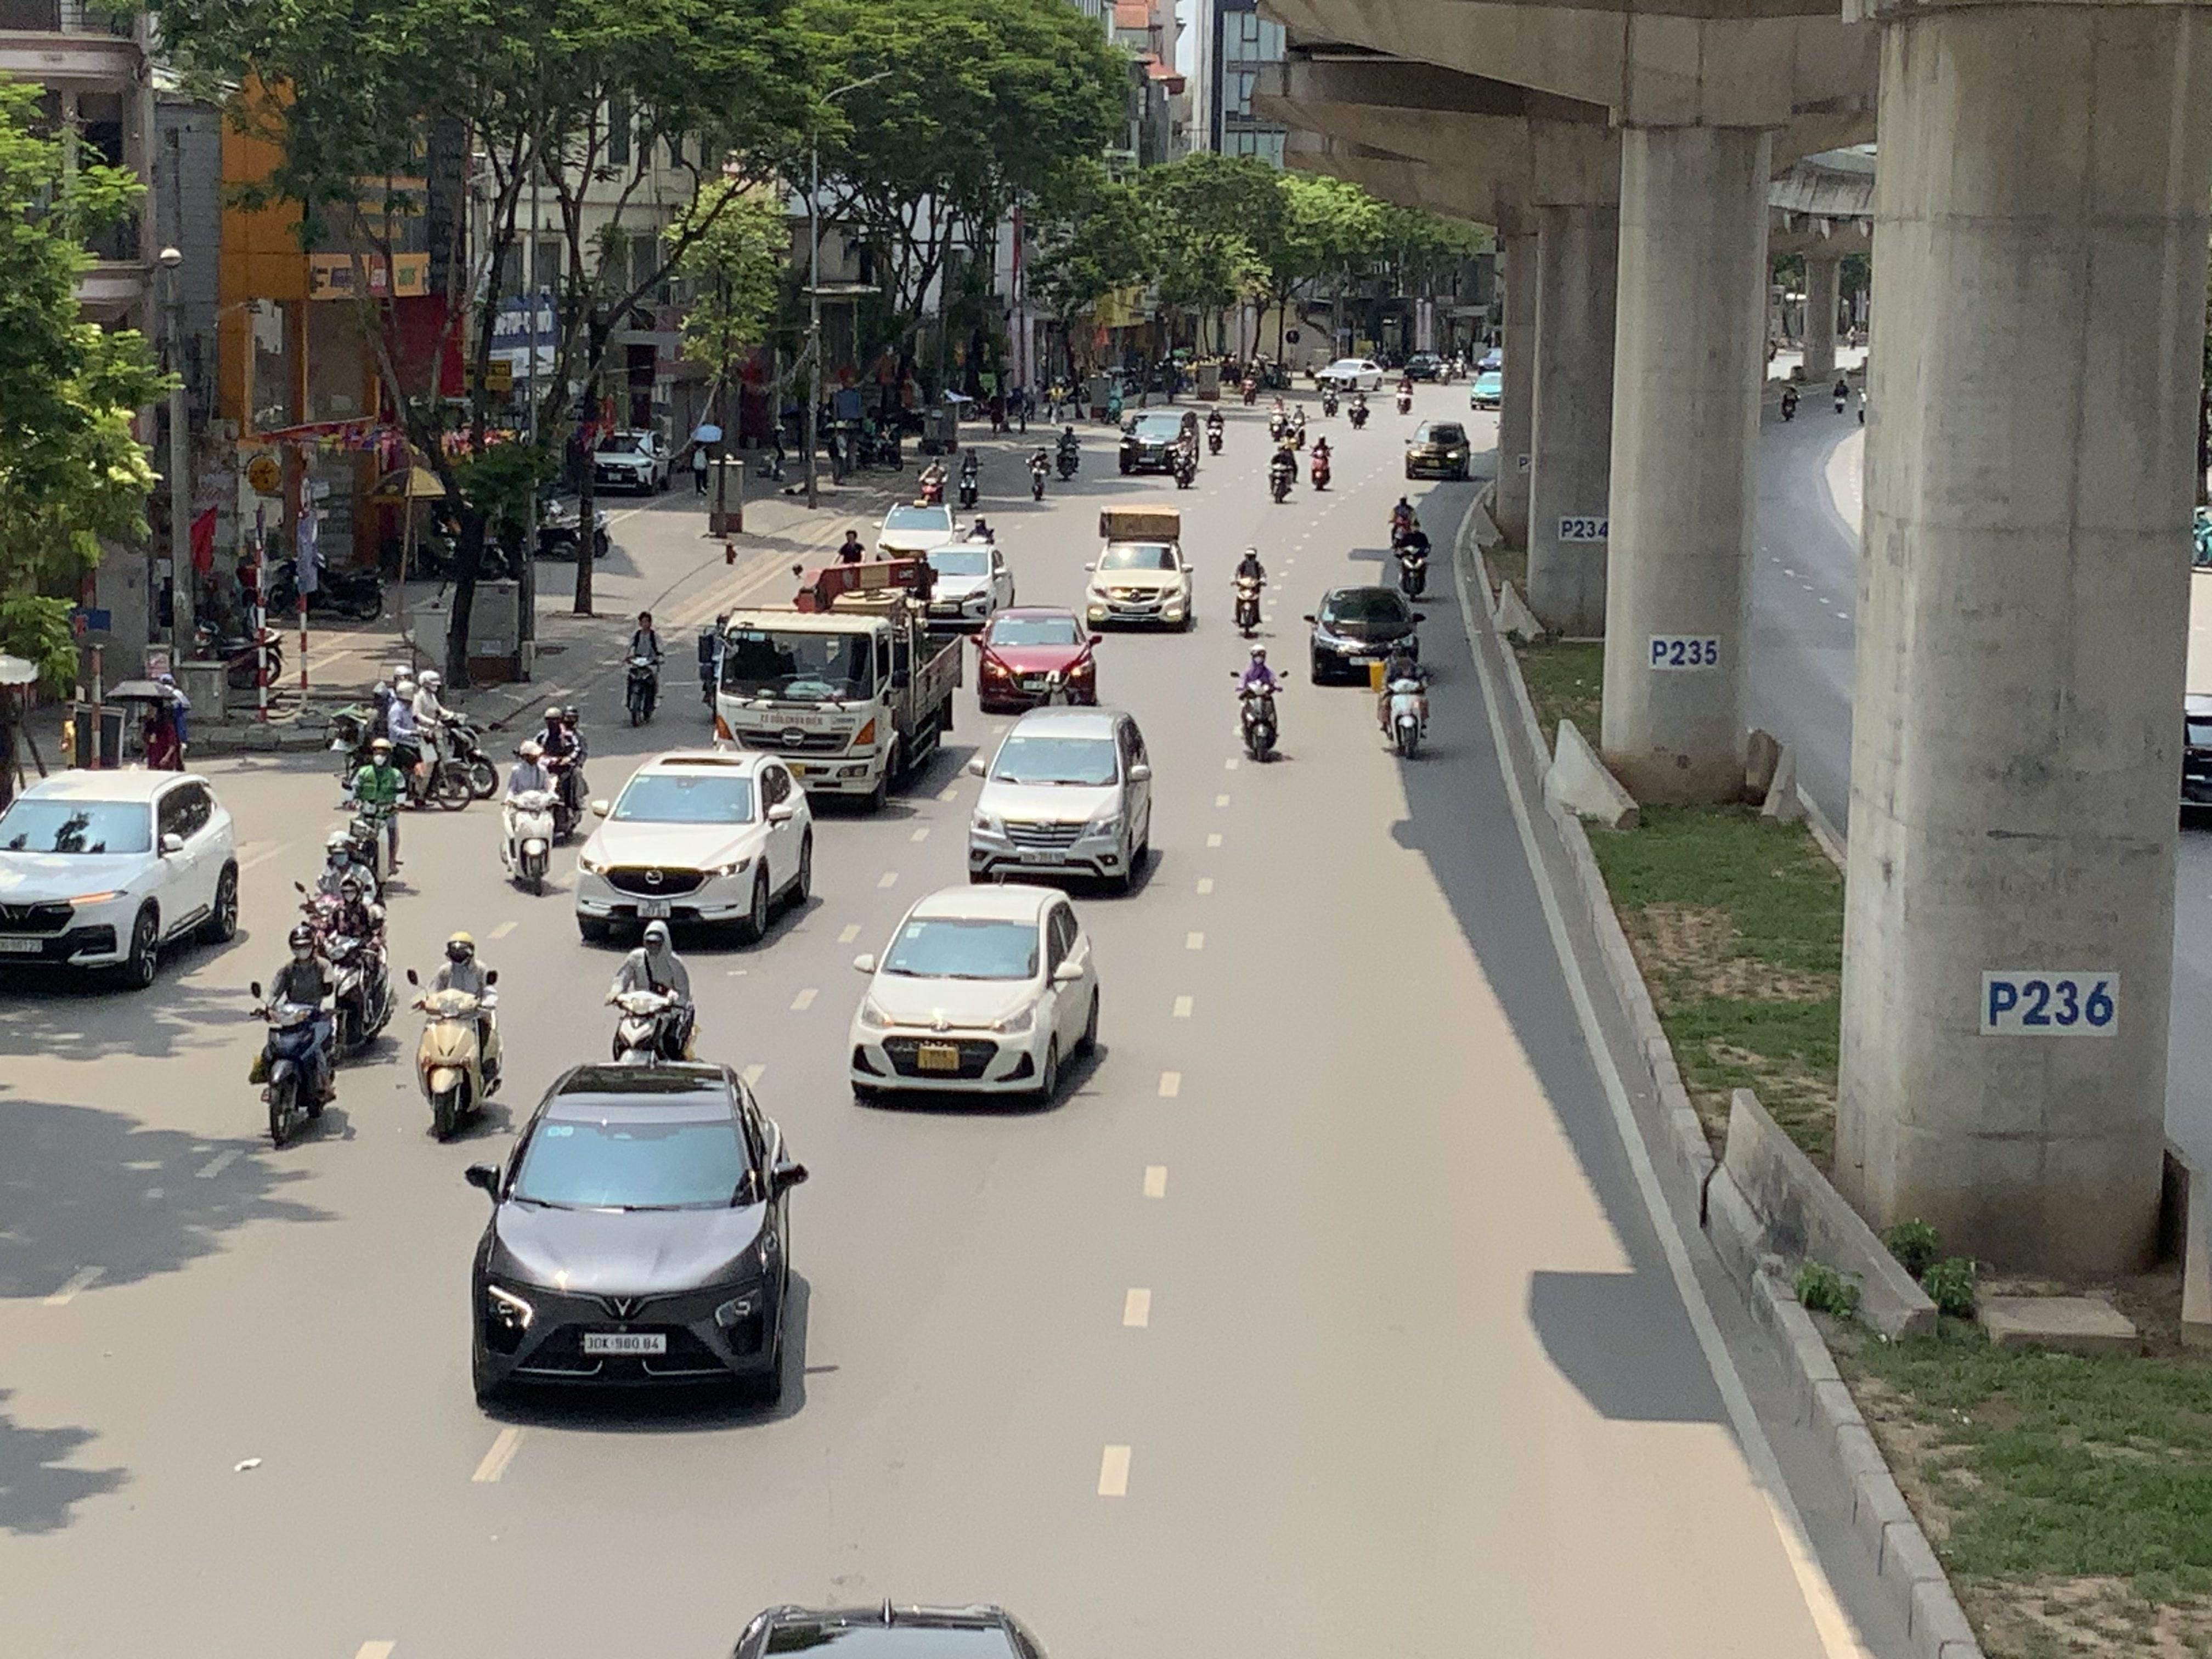BSD: (582, 1331, 667, 1354)
BSV: (918, 1046, 960, 1072), (636, 897, 671, 918)
car: (463, 1058, 812, 1417), (846, 882, 1104, 1110), (0, 767, 244, 992), (573, 748, 819, 948), (965, 706, 1157, 892), (653, 1600, 1118, 1659), (975, 606, 1101, 711), (1083, 521, 1197, 631), (1305, 582, 1425, 685), (916, 540, 1017, 624), (1118, 408, 1198, 476), (1404, 420, 1472, 479)
motorbike: (293, 843, 397, 1060), (249, 924, 345, 1150), (411, 932, 503, 1143), (340, 673, 475, 810), (606, 920, 698, 1066), (336, 741, 408, 885), (498, 741, 561, 896), (535, 706, 590, 843), (1376, 631, 1435, 760), (1233, 643, 1285, 762), (622, 610, 665, 727), (1230, 545, 1268, 636), (1393, 516, 1432, 601), (1266, 432, 1298, 504), (1170, 422, 1200, 491), (956, 444, 986, 511), (1054, 420, 1083, 483), (1308, 429, 1336, 493), (1026, 441, 1052, 505)
truck: (698, 589, 958, 810)
